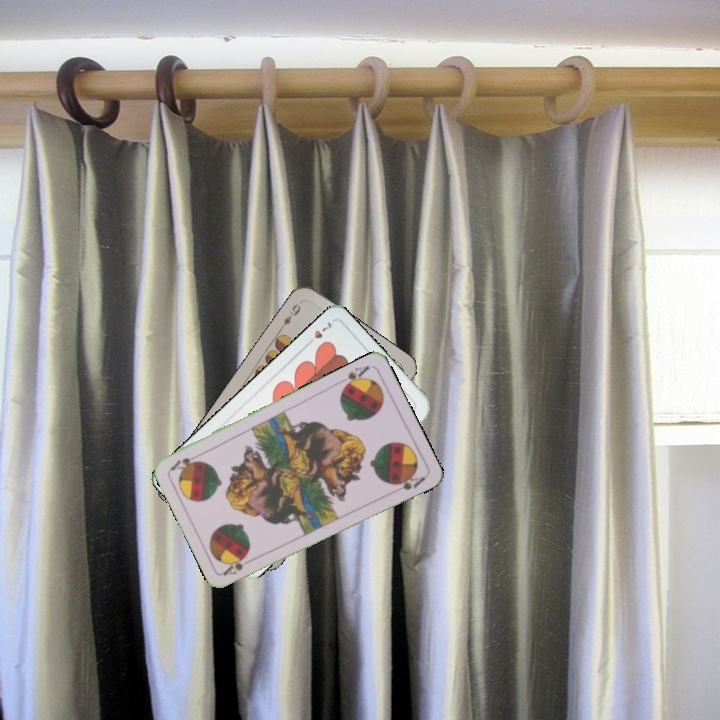E9: (276, 297, 305, 332)
H7: (302, 317, 335, 349)
SA: (335, 362, 372, 392), (219, 553, 257, 578)
